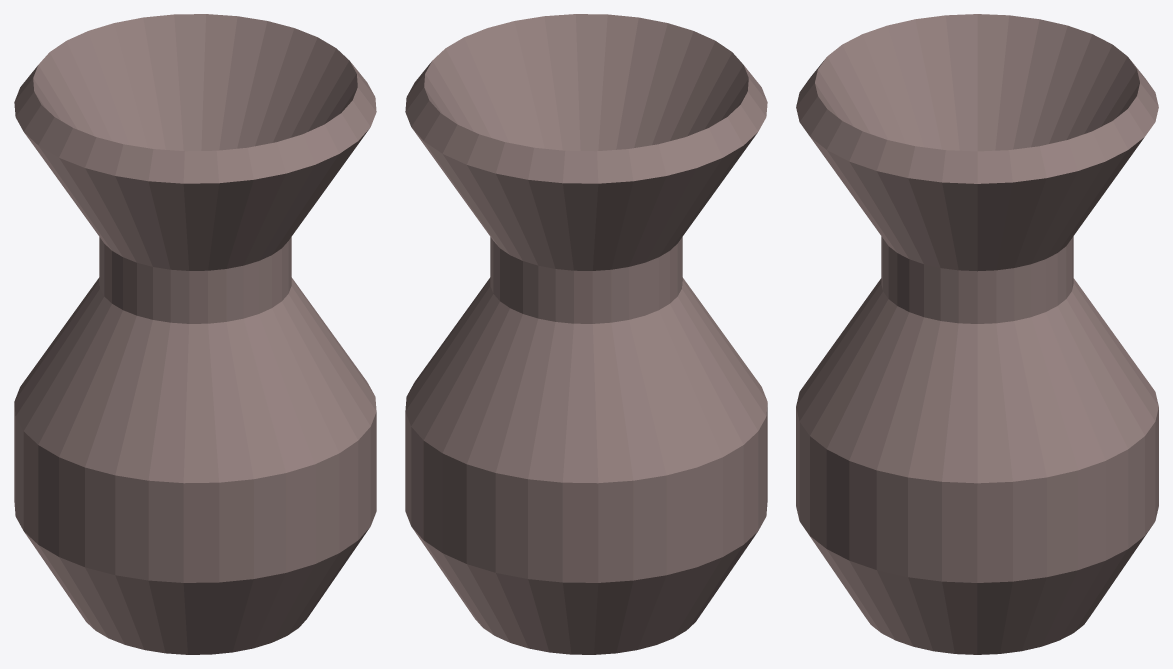
The model's file is Pot.fbx.
3 views of the same model, side by side, from view 1: azimuth 30°, elevation 25°; view 2: azimuth 150°, elevation 25°; view 3: azimuth 270°, elevation 25° (orthographic).
Parts seen in each view (by area): view 1: Cylinder.003; view 2: Cylinder.003; view 3: Cylinder.003.
Part boxes in pixels (x1=…): Cylinder.003: x1=14, y1=14, x2=376, y2=654; Cylinder.003: x1=405, y1=14, x2=767, y2=654; Cylinder.003: x1=796, y1=14, x2=1158, y2=654.
Size of the model in its own units: 200 by 318 by 200.
